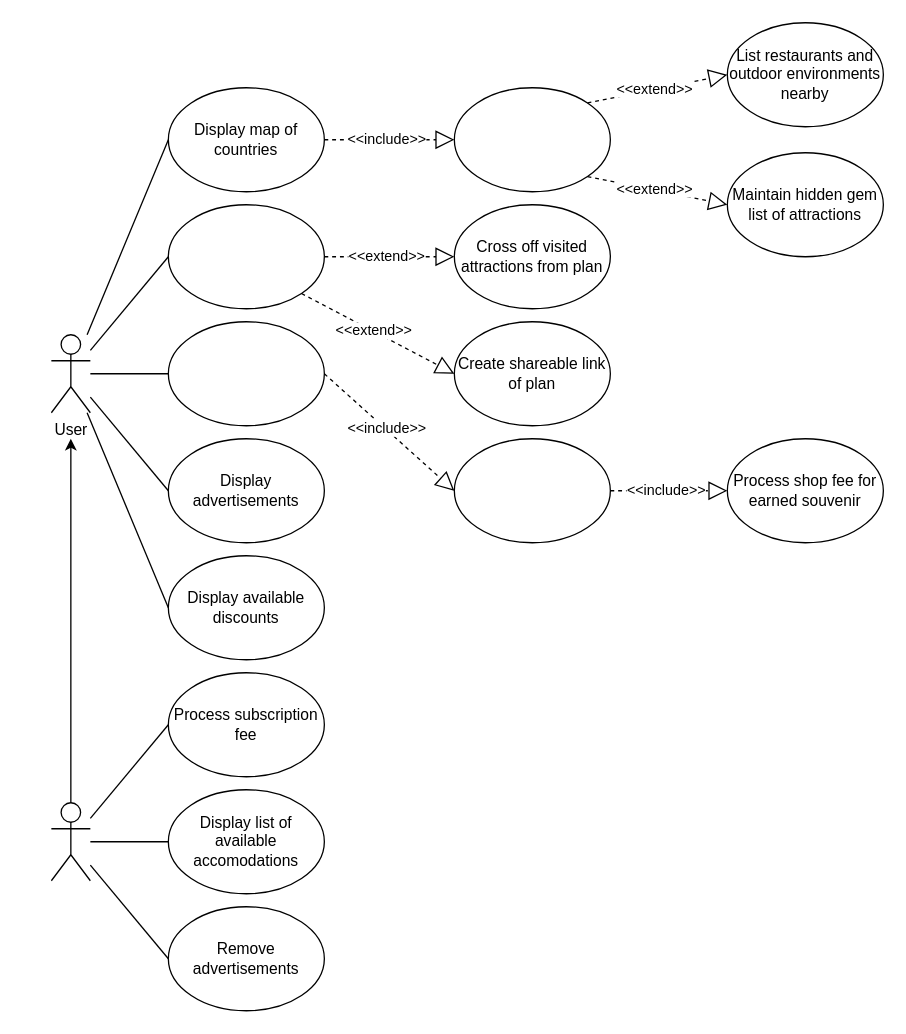
Some shapes in this 906 by 1034 pixel diagram are drawn without their labels. Each missing label, with the centre of its shape:
"Create traveling plan" goes at pixel 245 256.
"Determine reward based on score" goes at pixel 531 490.
"Display map of attractions" goes at pixel 531 139.
"For quiz: offer questions & update leaderboard based on score" goes at pixel 245 373.
"Premium user" goes at pixel 70 841.
